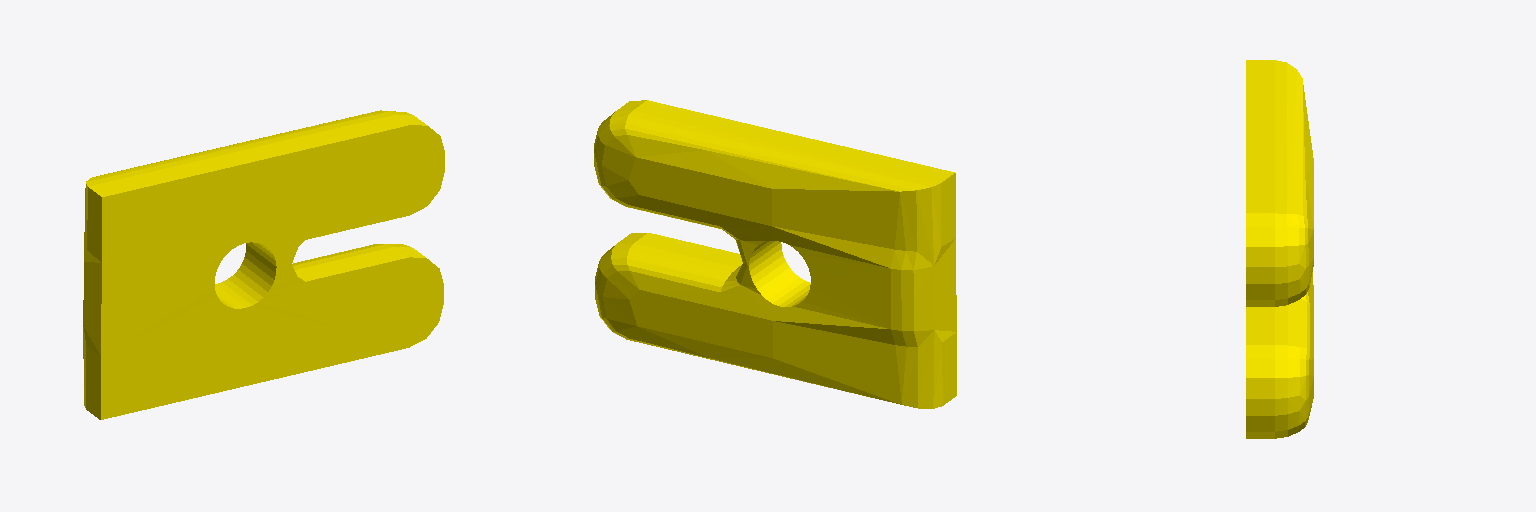
Rendered from upper_hull.obj.
The picture shows the model from 3 angles: view 1: azimuth 30°, elevation 25°; view 2: azimuth 150°, elevation 25°; view 3: azimuth 270°, elevation 25°; orthographic projection.
Visible parts, largest first — view 1: upper_hull_obj10.001; view 2: upper_hull_obj10.001; view 3: upper_hull_obj10.001.
Part boxes in pixels (bbox=[...]): upper_hull_obj10.001: bbox=[83, 110, 444, 419]; upper_hull_obj10.001: bbox=[594, 100, 956, 408]; upper_hull_obj10.001: bbox=[1246, 60, 1313, 438].
Bounding box in the file's own units: 0.5915 × 0.3693 × 0.101.